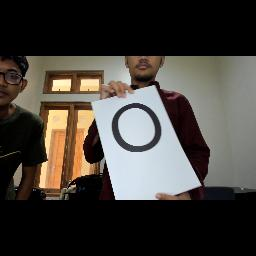o: (110, 99, 166, 155)
